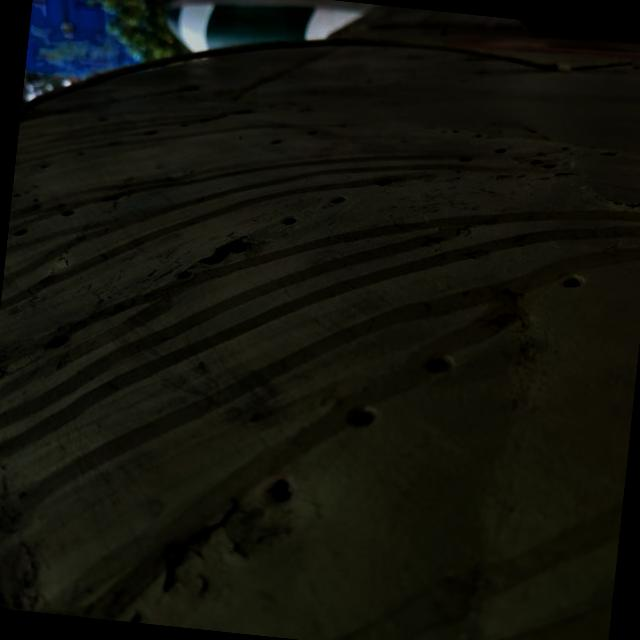crack: (154, 211, 274, 308)
